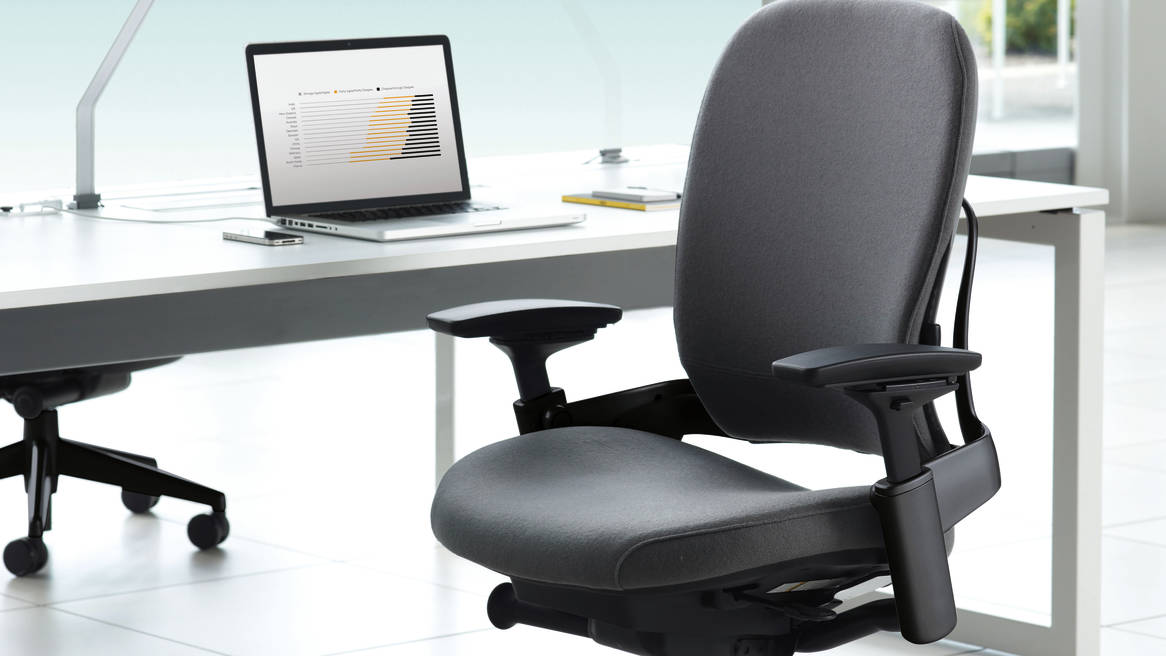chairs: (430, 8, 1004, 656)
